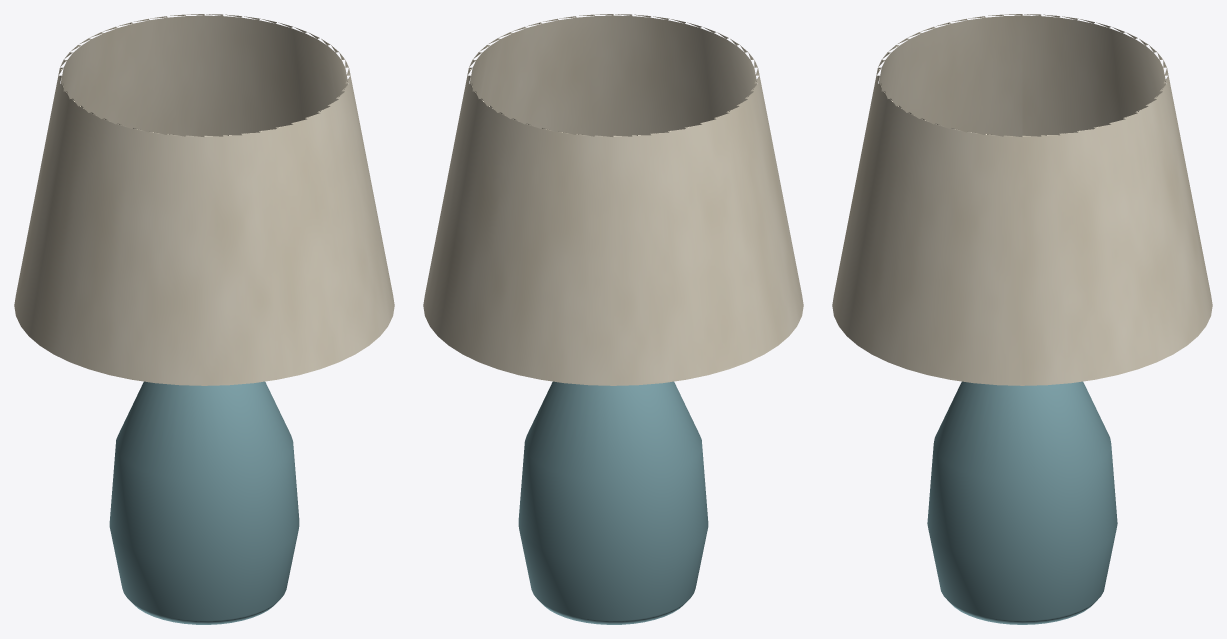
3 renders of one model, left to right at view 1: azimuth 30°, elevation 25°; view 2: azimuth 150°, elevation 25°; view 3: azimuth 270°, elevation 25°, orthographic.
Visible parts, largest first — view 1: Table lamp; view 2: Table lamp; view 3: Table lamp.
Boxes of the visible parts, x1=… form: Table lamp: x1=14, y1=14, x2=394, y2=624; Table lamp: x1=423, y1=14, x2=803, y2=624; Table lamp: x1=832, y1=14, x2=1212, y2=624.
Bounding box in the file's own units: 0.3 × 0.45 × 0.3.
Materials: 3 (1 with a texture image).
